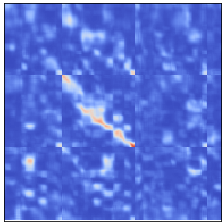action_path: (60, 75, 134, 149)
